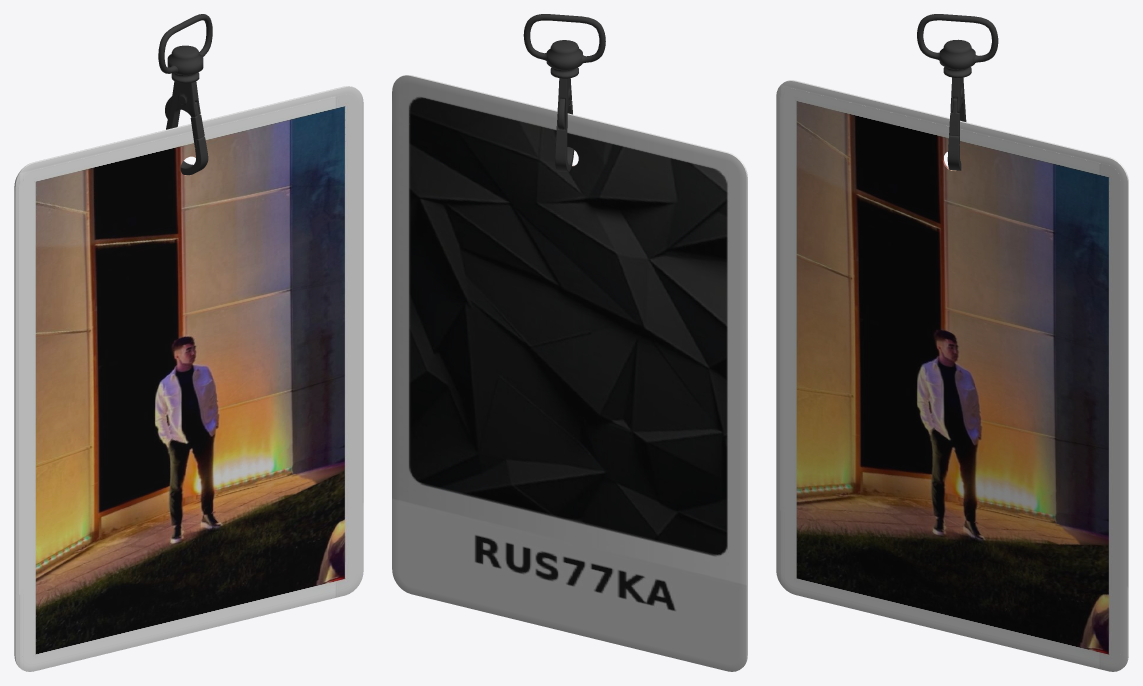
The model's file is kartu.glb.
3 renders of one model, left to right at view 1: azimuth 30°, elevation 25°; view 2: azimuth 150°, elevation 25°; view 3: azimuth 330°, elevation 25°, orthographic.
Visible parts, largest first — view 1: card, clip, clamp; view 2: card, clip, clamp; view 3: card, clip, clamp.
Part boxes in pixels (x1,y1,x2,y2): card: (14,86,363,671); clip: (158,14,212,83); clamp: (165,81,208,175); card: (392,75,747,671); clip: (523,14,605,78); clamp: (555,78,574,171); card: (776,80,1128,671); clip: (917,14,998,77); clamp: (947,77,966,170).
Size of the model in its own units: 0.7164 by 1.2 by 0.0903.
3 materials, 1 textured.
